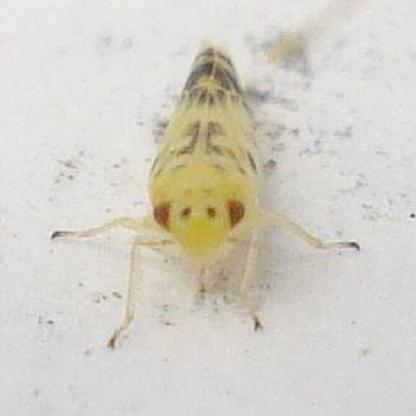green-leafhopper: (62, 48, 305, 333)
